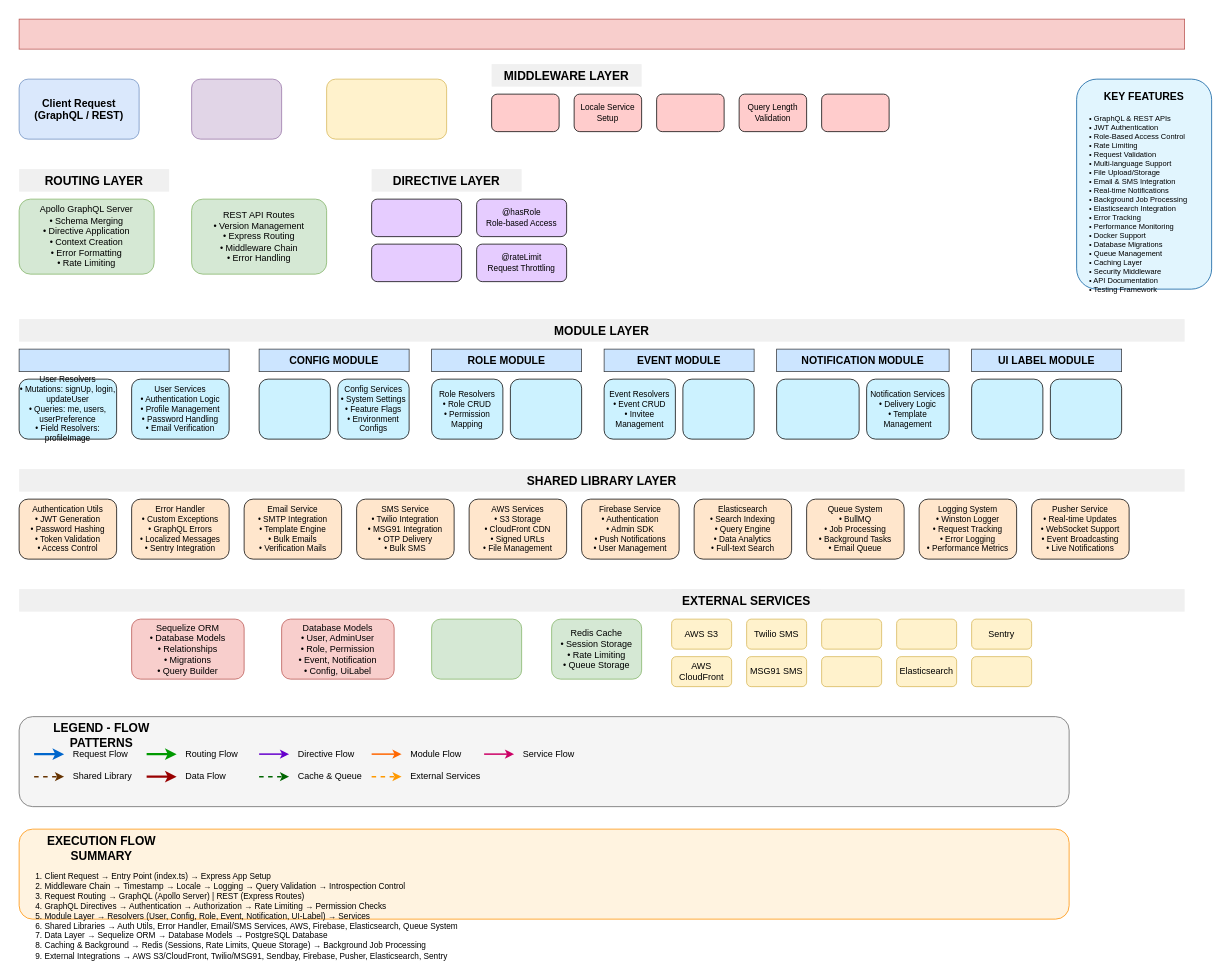
Image size: 1225x974. Some labels were removed from this diagram. The box of each missing label's shape, as (x1, y1, x2, y2) in pixels:
@hasPermission Permission Checks: (371, 243, 462, 282)
@isAuthenticated JWT Token Validation: (371, 198, 462, 237)
Config Resolvers • CRUD Operations • Public Configs • Admin Configs: (258, 378, 330, 439)
DATA LAYER: (19, 589, 1184, 611)
Entry Point index.ts: (191, 78, 282, 139)
Event Services • Event Logic • Invitation System: (682, 378, 754, 439)
Express Application • CORS • Compression • Body Parsing • Error Handling: (326, 78, 447, 139)
Firebase Auth: (821, 656, 882, 687)
Hive Moderation: (971, 656, 1032, 687)
Introspection Restriction: (821, 93, 889, 132)
Notification Resolvers • Push Notifications • Email Notifications: (776, 378, 859, 439)
PostgreSQL Database: (431, 618, 522, 679)
Pusher: (896, 618, 957, 649)
Request Log Info: (656, 93, 724, 132)
Role Services • Access Control • Permission Logic: (510, 378, 582, 439)
Sendbay Email: (821, 618, 882, 649)
Timestamp Validation: (491, 93, 559, 132)
TypeScript Server Boilerplate - Module Flow Architecture: (18, 18, 1185, 49)
UI Label Resolvers • I18N Labels • Language Support: (971, 378, 1043, 439)
UI Label Services • Translation Logic • Locale Management: (1050, 378, 1122, 439)
USER MODULE: (18, 348, 229, 372)
